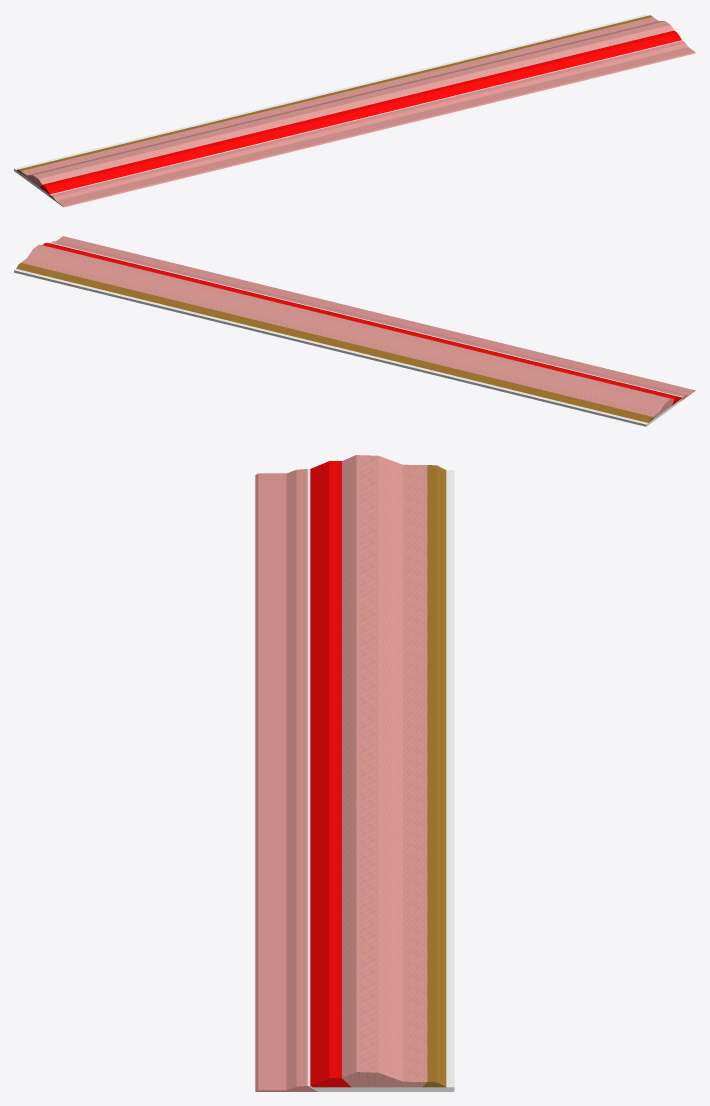
File: dita_m.obj
The picture shows the model from 3 angles, top to bottom: view 1: azimuth 30°, elevation 25°; view 2: azimuth 150°, elevation 25°; view 3: azimuth 270°, elevation 25°; orthographic projection. The views are drawn at different scales.
Visible parts, largest first — view 1: Mesh6 ___2_1 Model, Mesh1 Group1 Model, Mesh5 ____1_1 Model, Mesh2 Group2 Model, Mesh4 ___1 Model, Mesh3 ____1 Model; view 2: Mesh6 ___2_1 Model, Mesh1 Group1 Model, Mesh2 Group2 Model, Mesh4 ___1 Model, Mesh5 ____1_1 Model, Mesh3 ____1 Model; view 3: Mesh6 ___2_1 Model, Mesh1 Group1 Model, Mesh5 ____1_1 Model, Mesh2 Group2 Model, Mesh4 ___1 Model, Mesh3 ____1 Model.
Boxes of the visible parts, box(x1,y1,x2,y2) form: Mesh6 ___2_1 Model: box(21, 17, 673, 187); Mesh1 Group1 Model: box(48, 40, 695, 207); Mesh5 ____1_1 Model: box(40, 30, 681, 194); Mesh2 Group2 Model: box(16, 15, 652, 174); Mesh4 ___1 Model: box(14, 14, 647, 195); Mesh3 ____1 Model: box(47, 40, 682, 195); Mesh6 ___2_1 Model: box(21, 244, 674, 418); Mesh1 Group1 Model: box(51, 236, 695, 401); Mesh2 Group2 Model: box(16, 263, 653, 422); Mesh4 ___1 Model: box(14, 269, 681, 426); Mesh5 ____1_1 Model: box(42, 243, 681, 405); Mesh3 ____1 Model: box(50, 243, 682, 401); Mesh6 ___2_1 Model: box(342, 455, 427, 1087); Mesh1 Group1 Model: box(255, 469, 317, 1091); Mesh5 ____1_1 Model: box(310, 461, 351, 1087); Mesh2 Group2 Model: box(423, 465, 446, 1087); Mesh4 ___1 Model: box(313, 470, 454, 1091); Mesh3 ____1 Model: box(307, 469, 320, 1091).
Size of the model in its own units: 1045 by 15.8 by 143.
5 materials, 1 textured.
